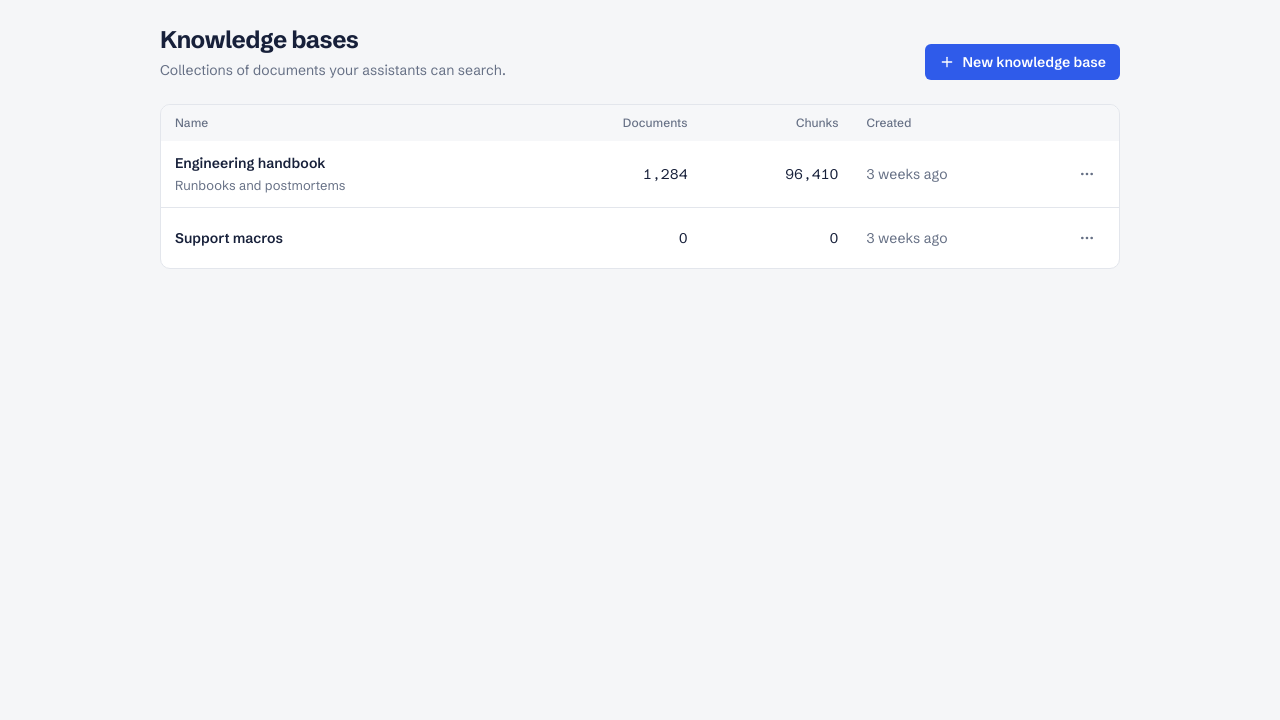
it: KnowledgeBasesPage › shows the server error inside the dialog when creation fails
Expected: the link "Support macros" is shown, [175,229,283,247]
Click the button "New knowledge base" at (1022, 62), box [925,44,1120,80]
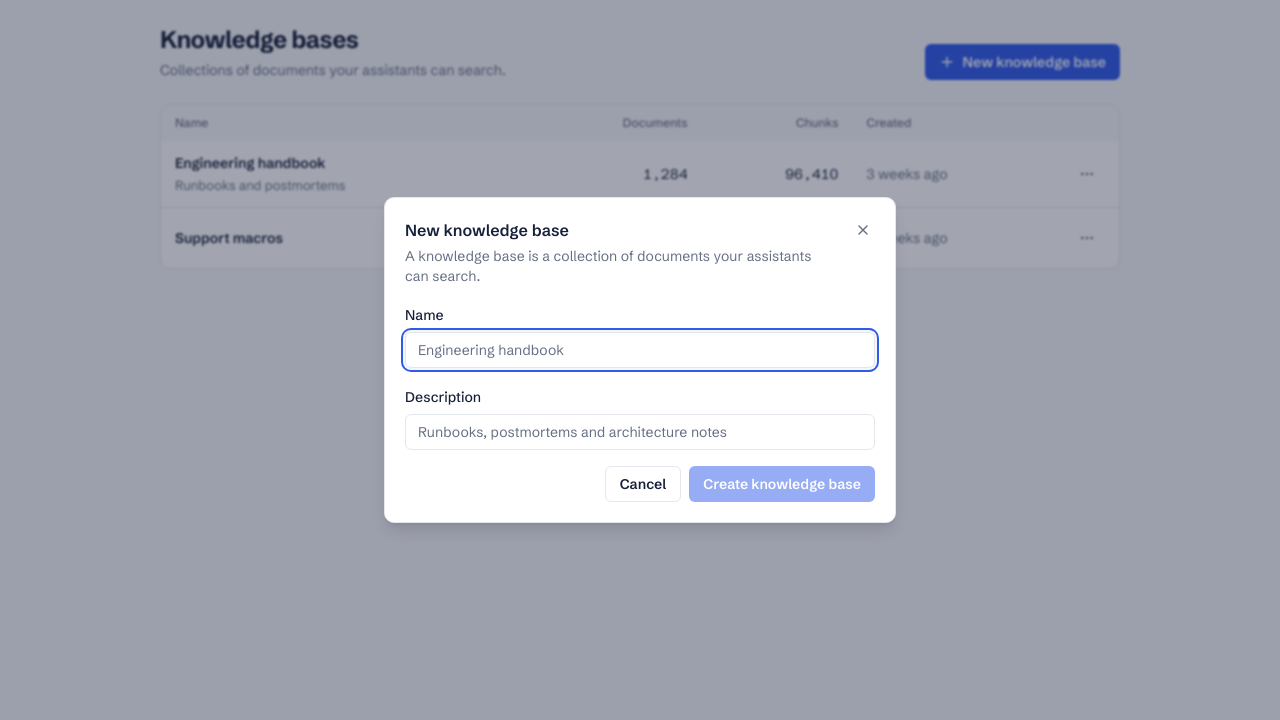
Type "Support macros" into the field labelled "Name" at (640, 350), box [405,332,875,368]
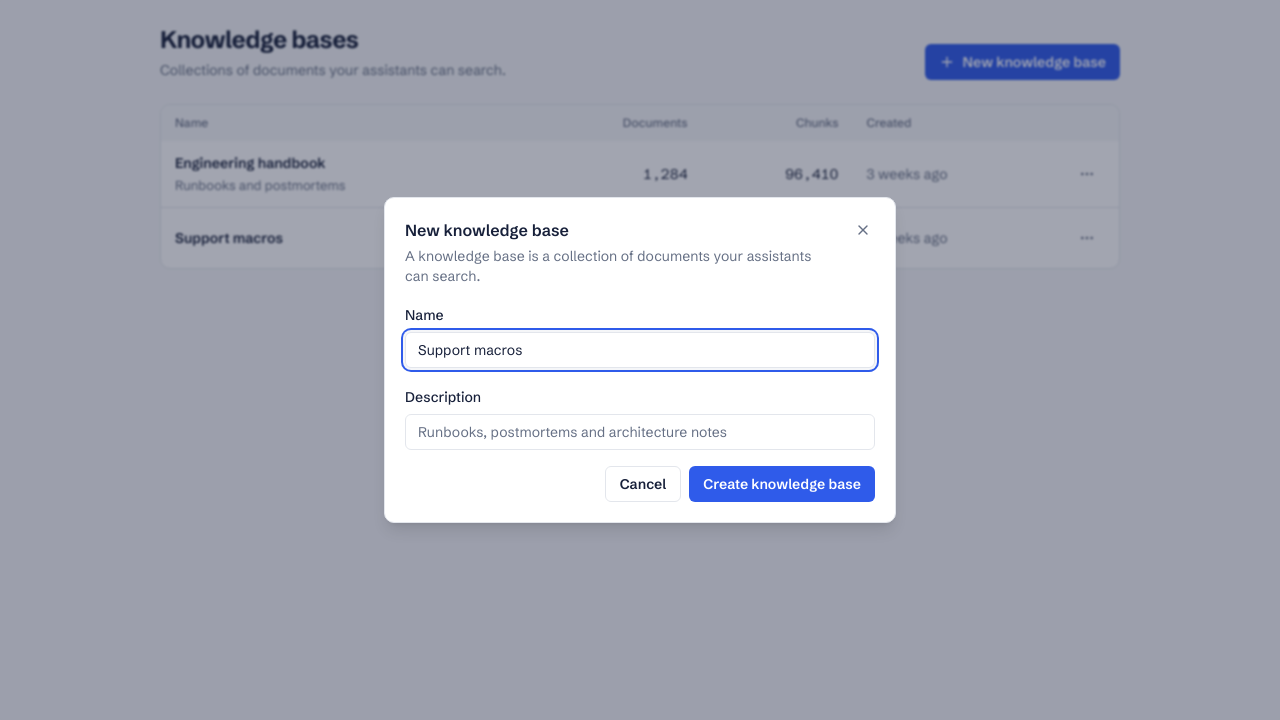
Click the button "Create knowledge base" at (782, 484), box [689,466,875,502]
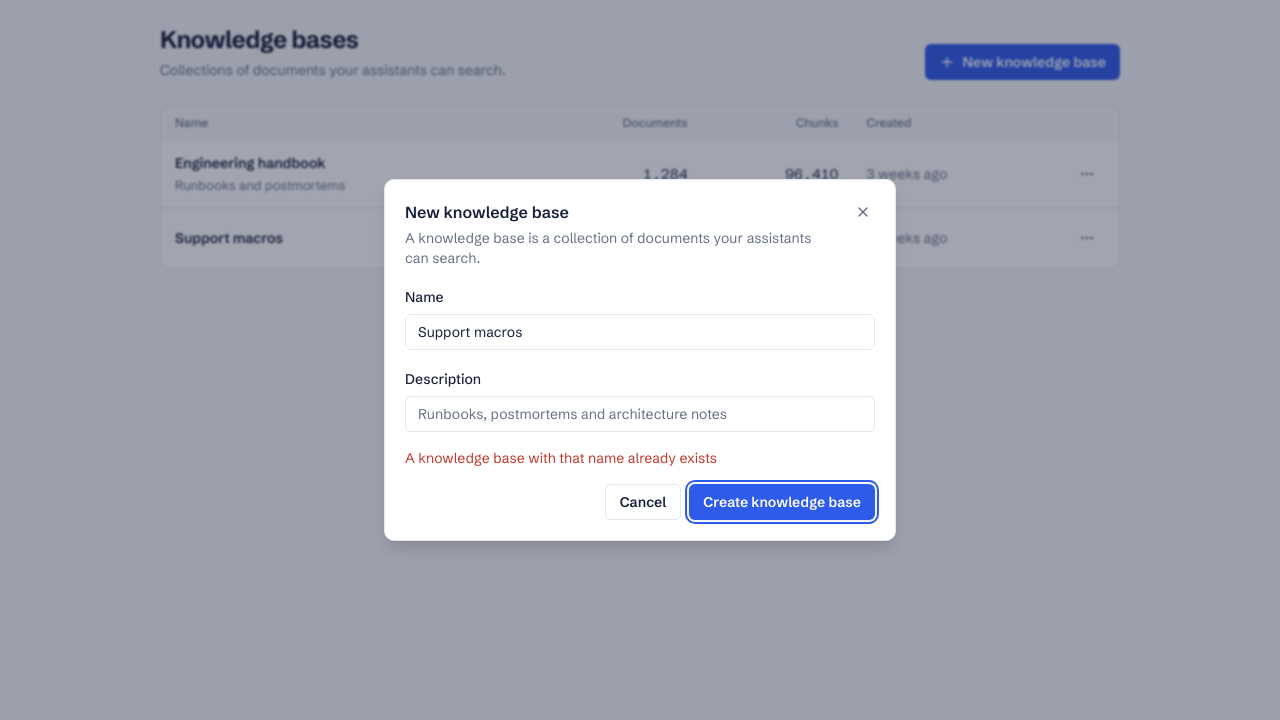
Result: the message shows "already exists" at [405,449,717,467]
